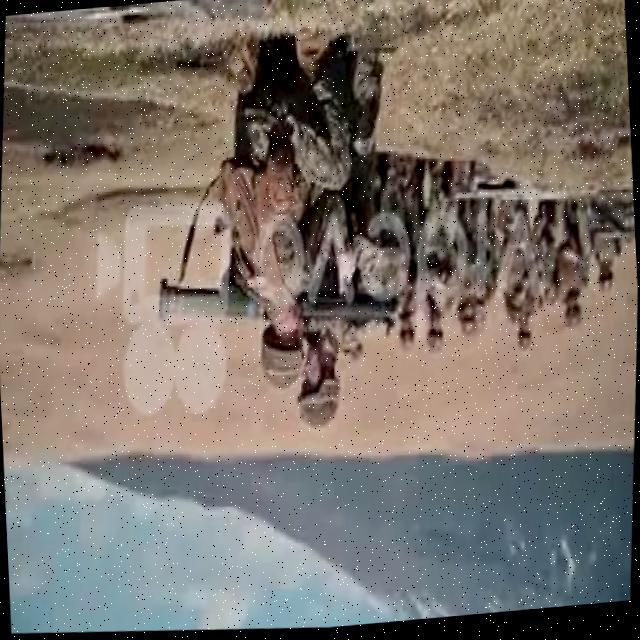rocket: (157, 261, 402, 353)
